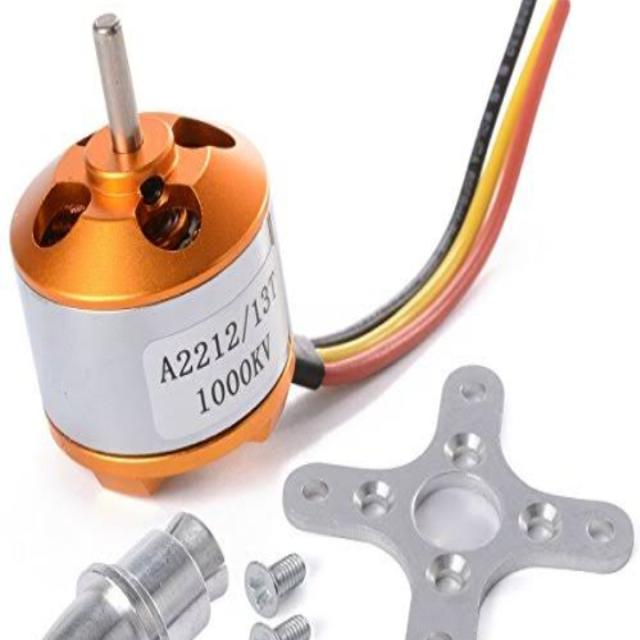motor: (8, 15, 294, 497)
